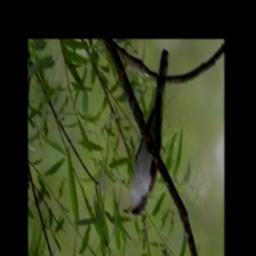Cuckoo: (124, 51, 169, 216)
